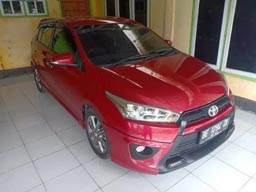plat: (199, 118, 229, 142)
